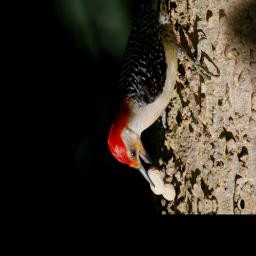Woodpecker: (101, 0, 228, 189)
